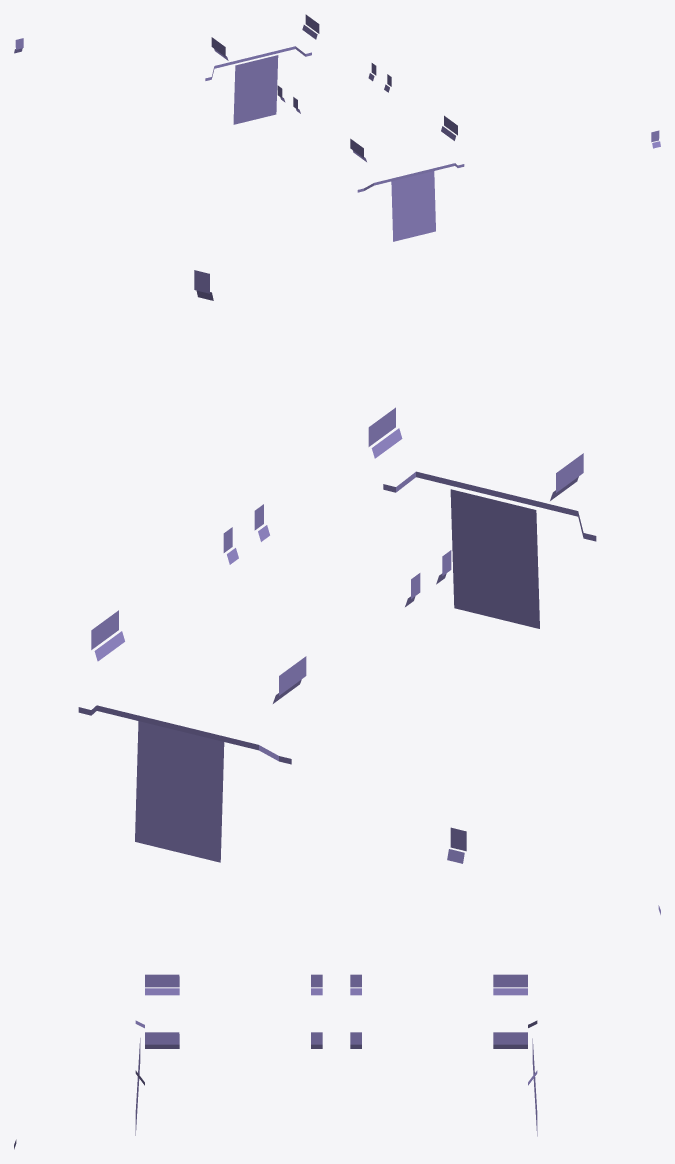
Rendered from cluster_8.fbx.
3 renders of one model, top to bottom at view 1: azimuth 30°, elevation 25°; view 2: azimuth 150°, elevation 25°; view 3: azimuth 270°, elevation 25°, orthographic. The views are drawn at different scales.
Parts seen in each view (by area): view 1: cluster_8; view 2: cluster_8; view 3: cluster_8.
Boxes of the visible parts, left/top/right/bottom form: cluster_8: left=14, top=14, right=660, bottom=241; cluster_8: left=78, top=270, right=596, bottom=863; cluster_8: left=14, top=905, right=660, bottom=1149.
Size of the model in its own units: 245237 by 58299 by 280319.
